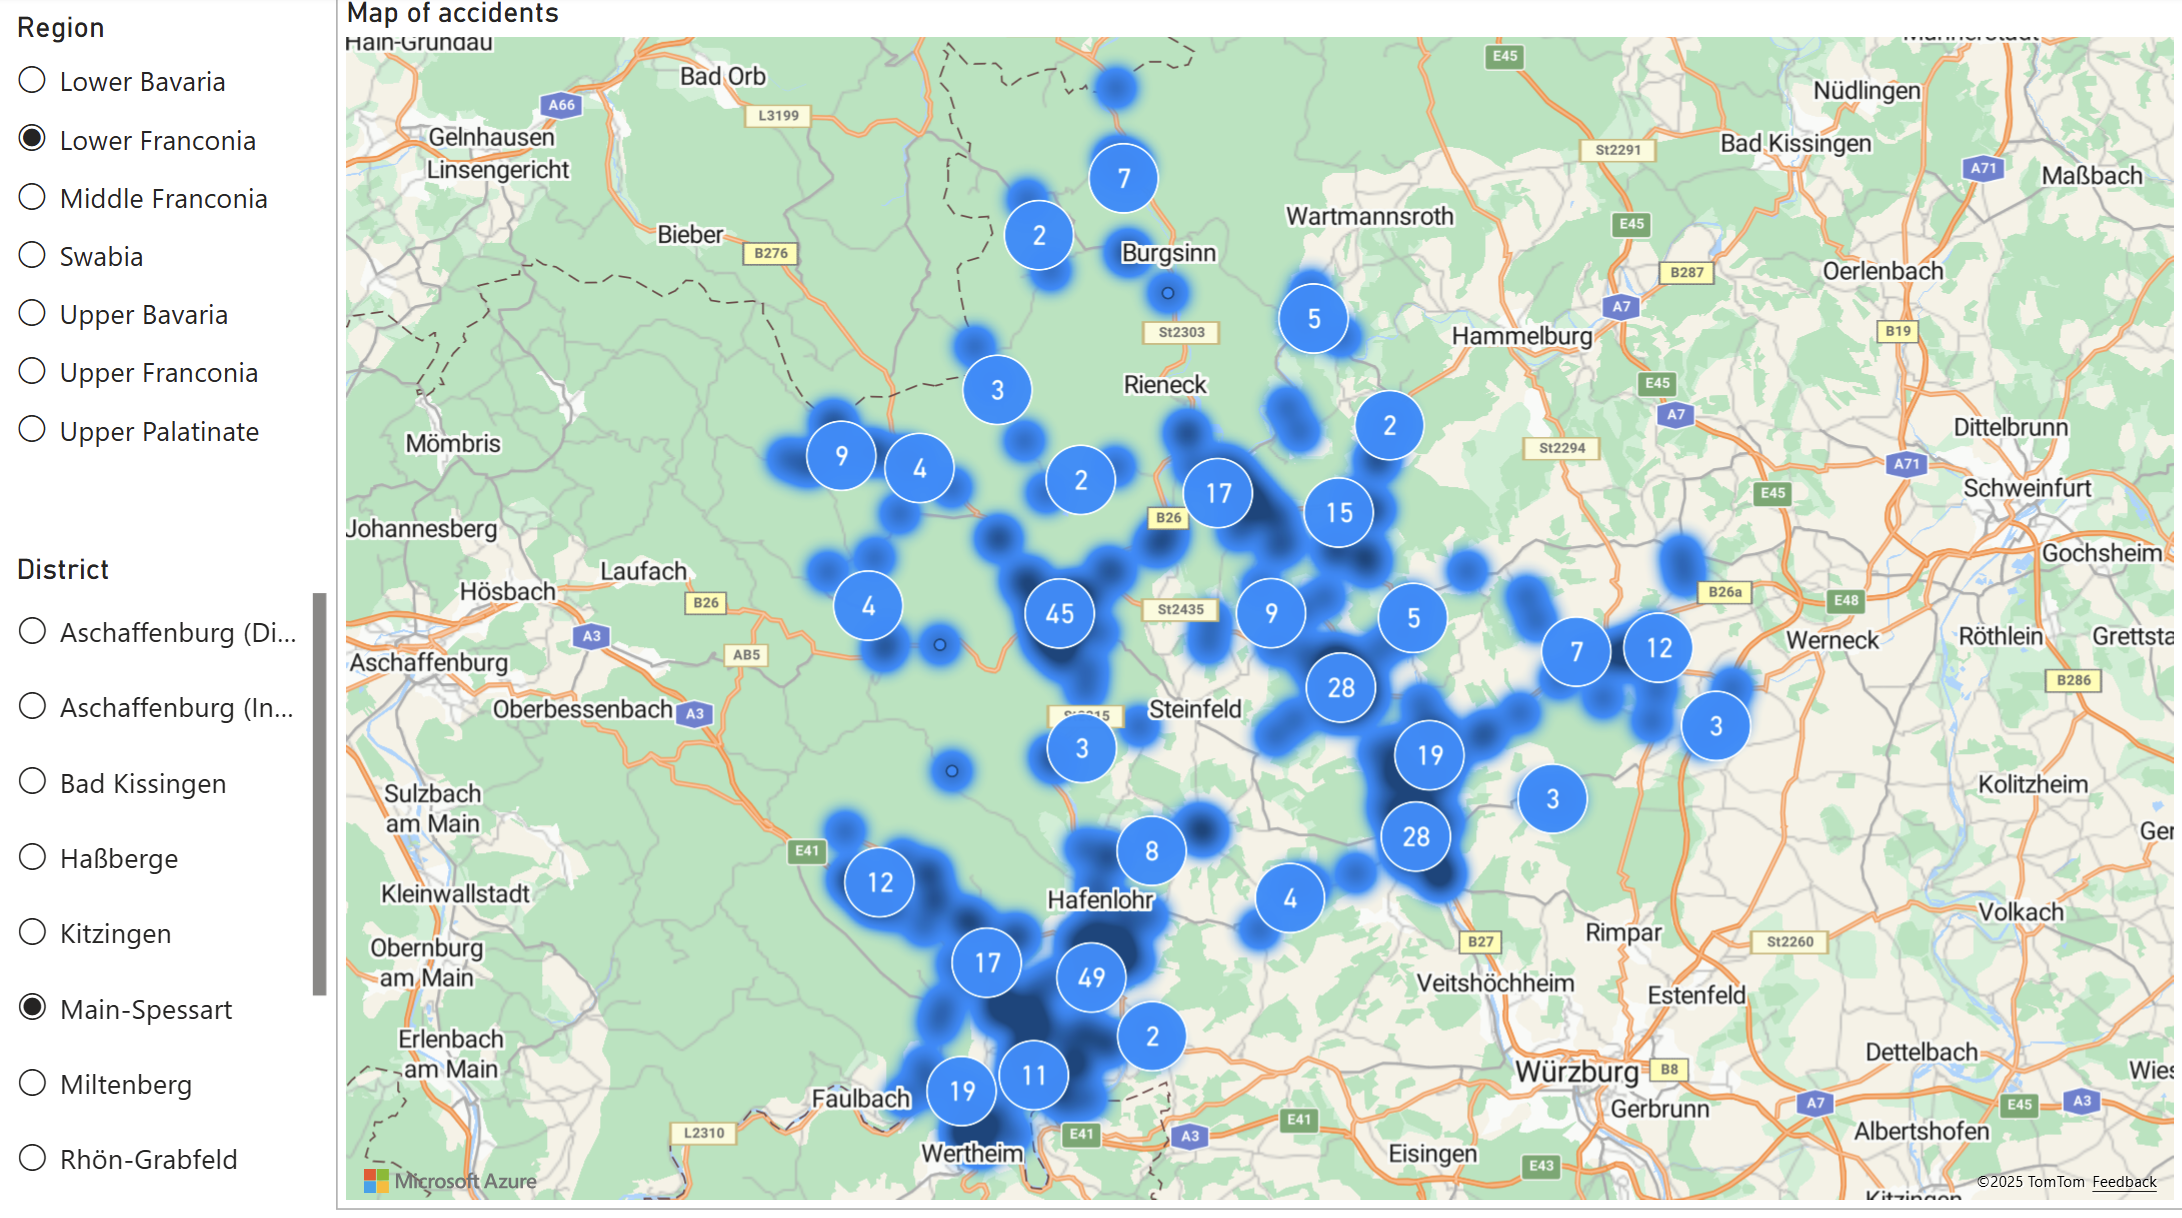

What the dashboard file says about the page in this screenshot:
{"tool":"powerbi","page":{"name":"Accidents Map & Hotspots ","canvas":[1280,720],"ordinal":3},"visuals":[{"type":"azureMap","title":"Map of accidents","fields":{"Size":["Measures Table.Total Accidents"],"X":["Fact_Accident.longitude_fix"],"Y":["Fact_Accident.latitude_fix"]},"box":[200.8,0,1079.2,710.1],"z":0},{"type":"listSlicer","fields":{"Values":["dim_district.region_name_en"]},"box":[9.4,9.4,180.5,305.9],"z":1000},{"type":"listSlicer","fields":{"Values":["dim_district.district_name_en"]},"box":[9.3,325.8,191.5,384.2],"z":2000}]}

Visuals, with their boxes on the page's 1280x720 design canvas (x1, y1, x2, y2). These are canvas units, not pixel positions in the 2182x1218 screenshot, which may show the page scaled, cropped or inside an application window:
"Map of accidents" azureMap: bbox=[201, 0, 1280, 710]
listSlicer - dim_district.region_name_en: bbox=[9, 9, 190, 315]
listSlicer - dim_district.district_name_en: bbox=[9, 326, 201, 710]
